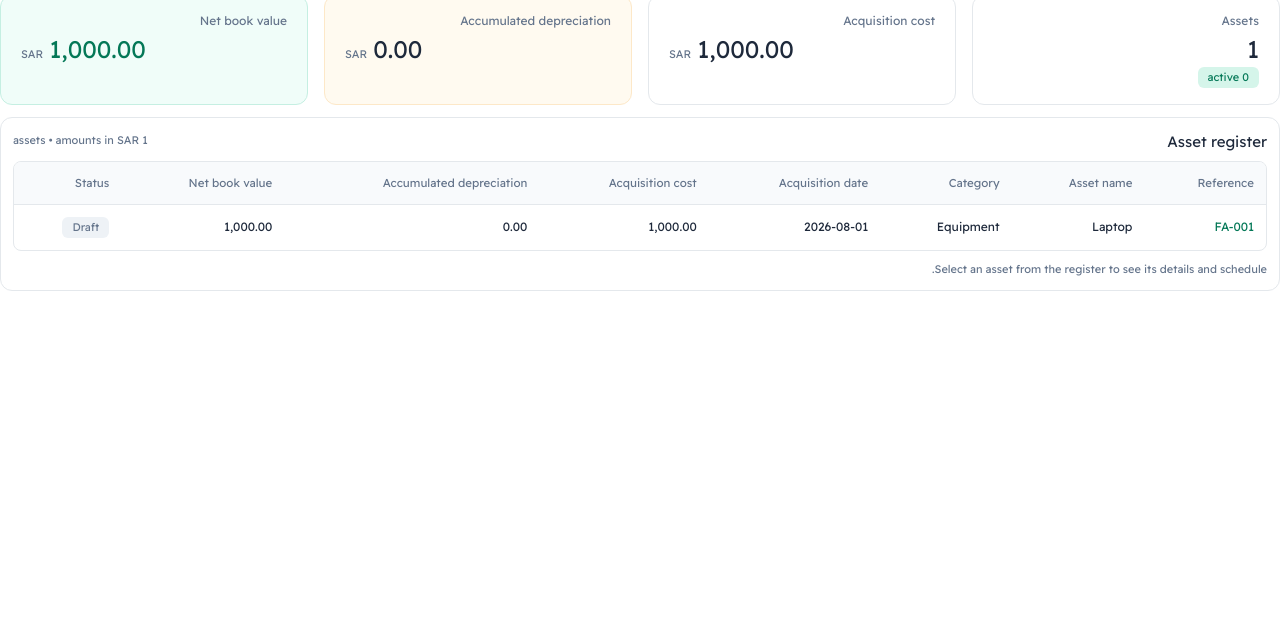
Fixed Assets draft editing › prefills and PATCHes editable manual draft fields, then refreshes the detail
Click the text "FA-001" at (1234, 226), box [14, 204, 1266, 250]
(page scrolled)
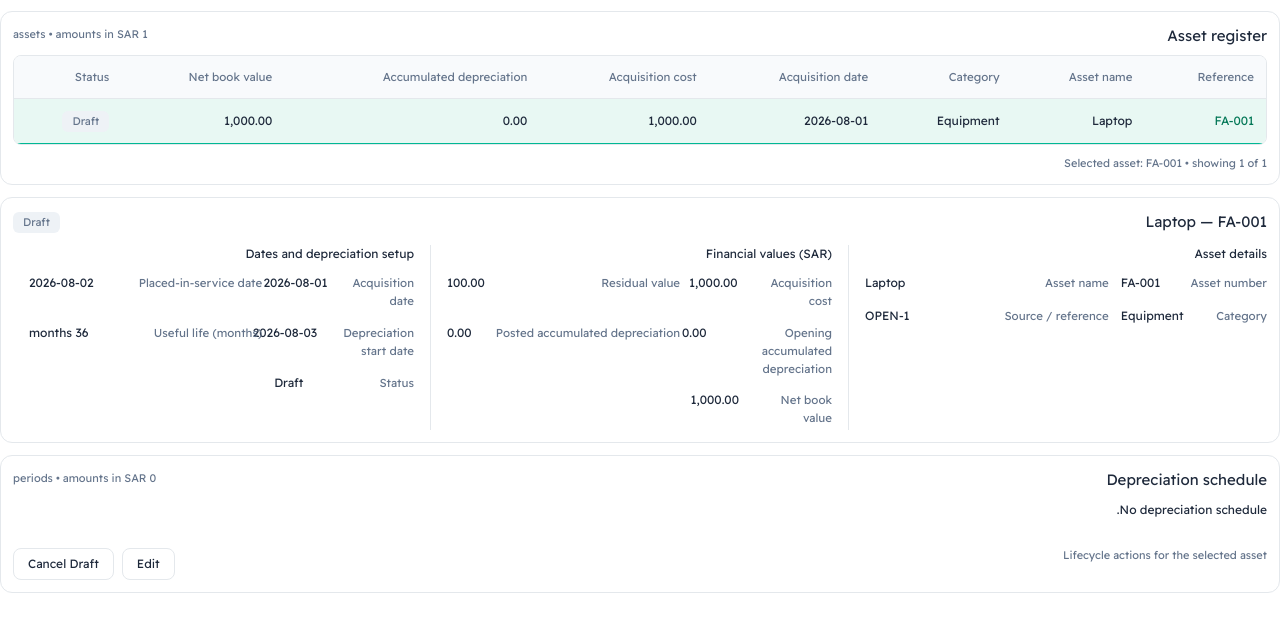
Expected: the element "Asset details" is shown
Click the button "Edit" at (148, 564), box [122, 548, 175, 580]
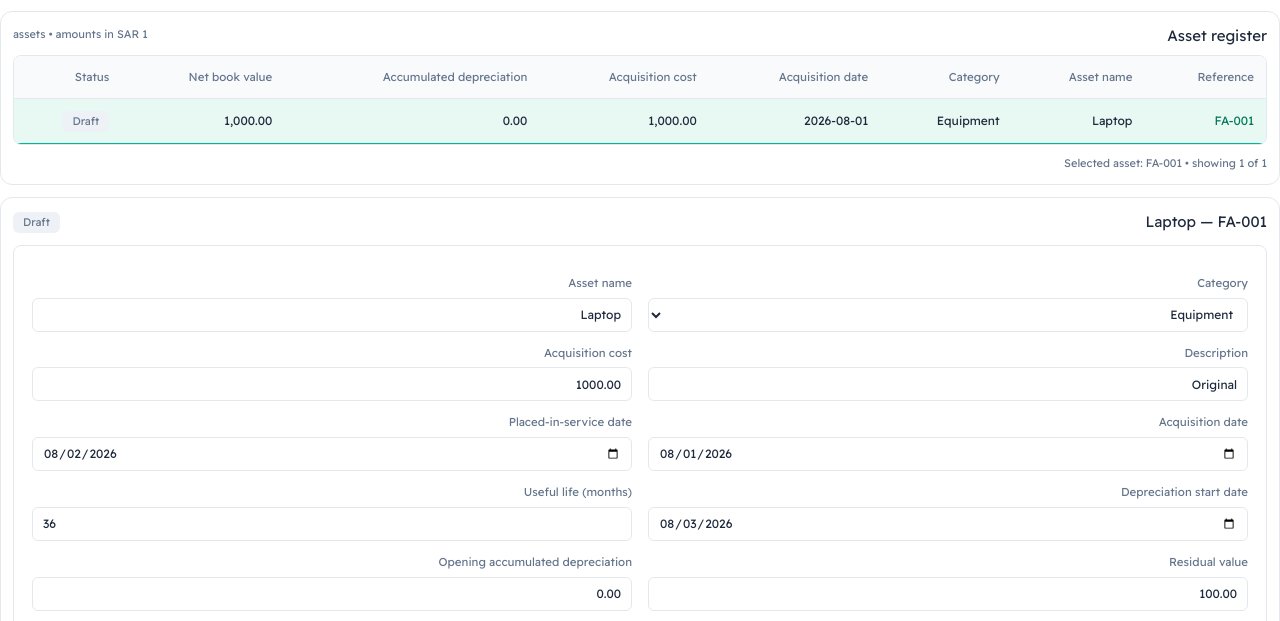
Expected: the field labelled "Asset name" holds "Laptop"
Replace the text in the field labelled "Asset name" with "Updated laptop" at (332, 314), box [32, 298, 632, 332]
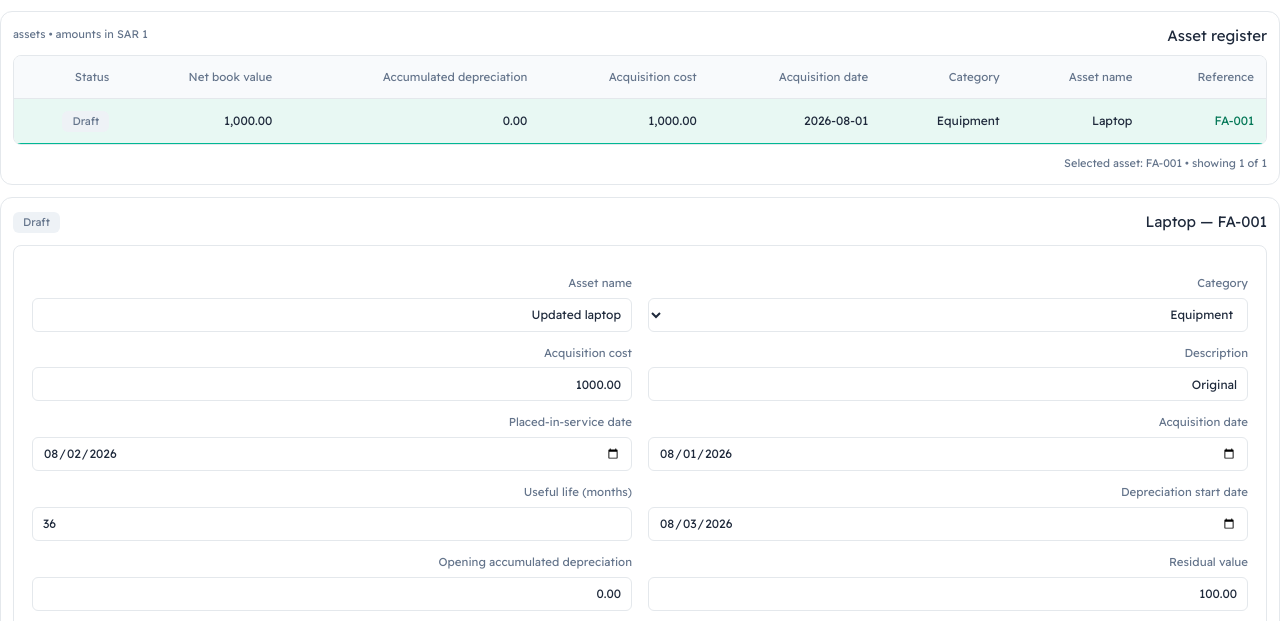
Replace the text in the field labelled "Acquisition cost" with "1200.00" at (332, 384), box [32, 367, 632, 401]
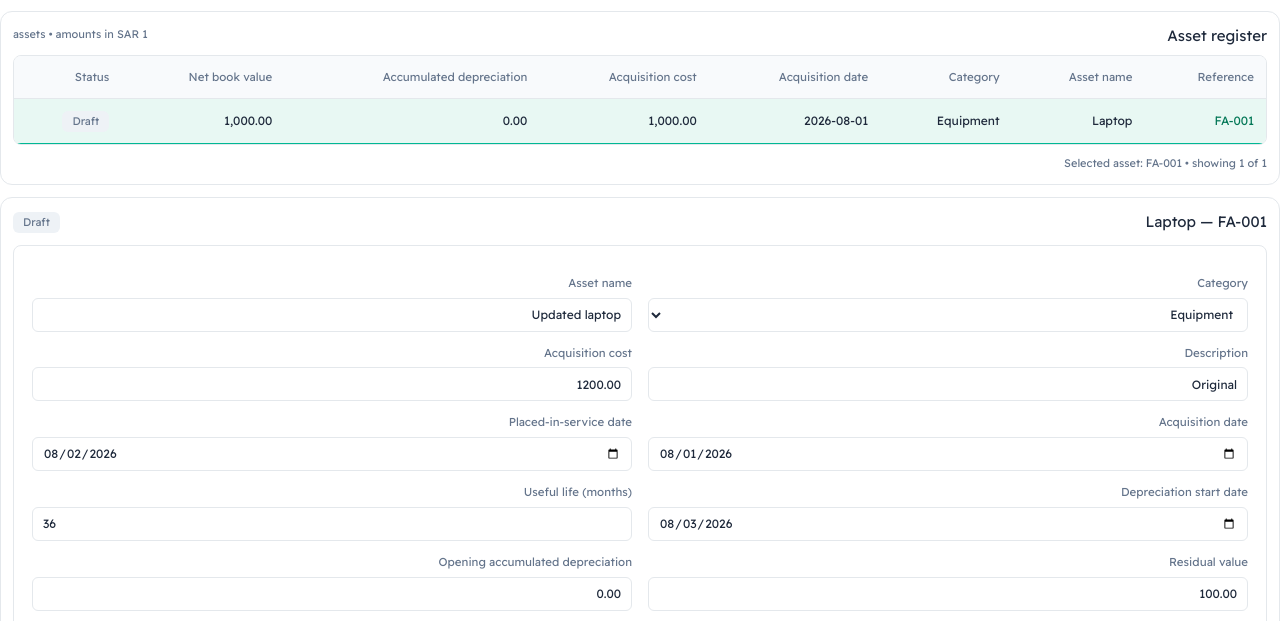
Type "2026-08-05" into the date field labelled "Acquisition date" at (948, 454), box [648, 437, 1248, 471]
(page scrolled)
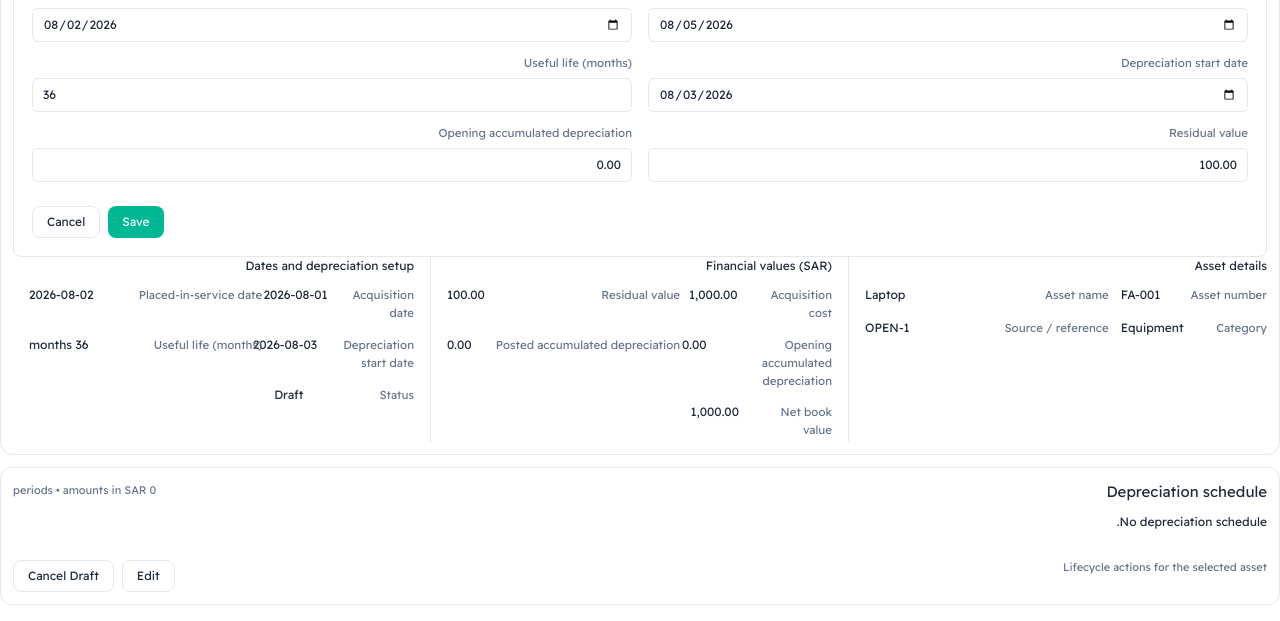
Click the button "Save" at (136, 222), box [108, 206, 164, 238]
(page scrolled)
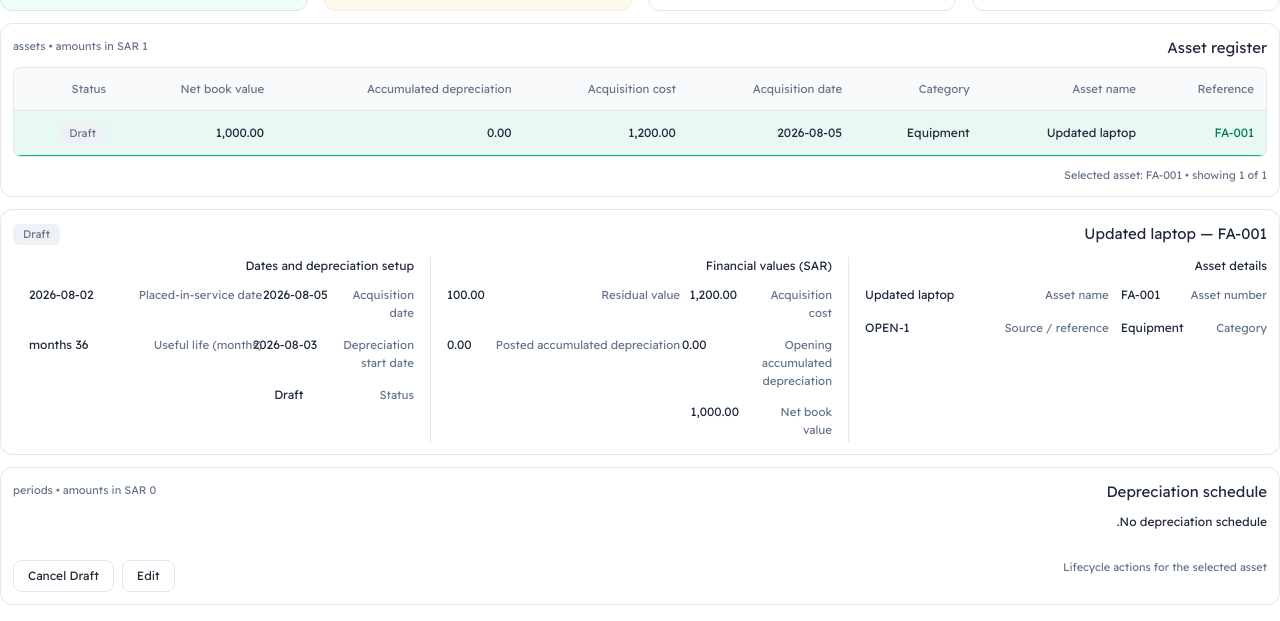
Expected: the heading "Updated laptop — FA-001" is shown, [1084, 224, 1267, 243]
Expected: the text "1,200.00" is shown, [689, 287, 737, 302]
